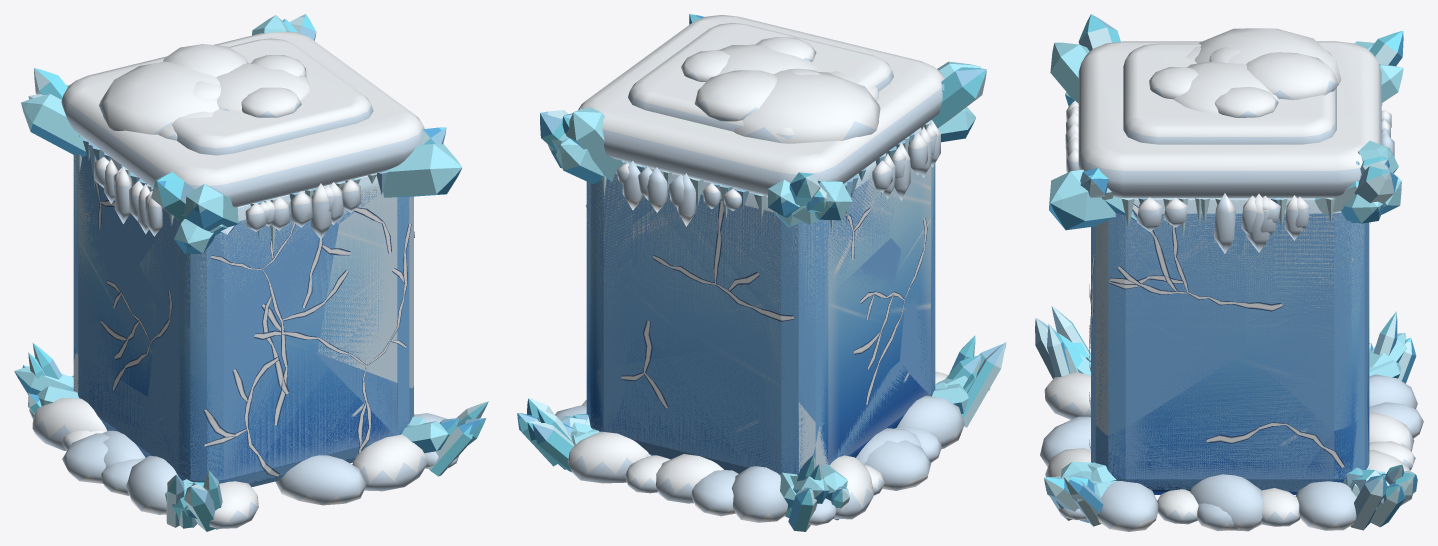
The model's file is IceBlockKit.fbx.
3 views of the same model, side by side, from view 1: azimuth 30°, elevation 25°; view 2: azimuth 150°, elevation 25°; view 3: azimuth 270°, elevation 25° (orthographic). The views are drawn at different scales.
Visible parts, largest first — view 1: IceShell, IceV1Snow, IcePiece01, IcePiece08, IceDrifts, IceV3Snow, IceV2Snow, IcePiece09, IcePiece04, IceMythicGlass, IcePiece02, IcePiece03 (+8 smaller); view 2: IceShell, IceV1Snow, IcePiece11, IcePiece05, IceV2Snow, IceV3Snow, IcePiece06, IceDrifts, IceMythicGlass, IcePiece02, IceV1Crystals, IceCrystalClusters (+6 smaller); view 3: IceShell, IceV1Snow, IcePiece09, IcePiece11, IcePiece10, IceV3Snow, IceDrifts, IceV2Snow, IceMythicGlass, IceCrystalClusters, IceV1Crystals, IceV3Crystals (+6 smaller).
Boxes of the visible parts, x1=… form: IceShell: x1=73, y1=155, x2=413, y2=483; IceV1Snow: x1=29, y1=31, x2=459, y2=495; IcePiece01: x1=140, y1=204, x2=338, y2=353; IcePiece08: x1=148, y1=311, x2=313, y2=482; IceDrifts: x1=32, y1=375, x2=446, y2=528; IceV3Snow: x1=73, y1=38, x2=398, y2=227; IceV2Snow: x1=62, y1=44, x2=414, y2=483; IcePiece09: x1=317, y1=192, x2=413, y2=388; IcePiece04: x1=217, y1=353, x2=413, y2=486; IceMythicGlass: x1=14, y1=15, x2=462, y2=518; IcePiece02: x1=73, y1=229, x2=156, y2=387; IcePiece03: x1=73, y1=351, x2=174, y2=468; IceShell: x1=586, y1=127, x2=934, y2=475; IceV1Snow: x1=578, y1=15, x2=944, y2=525; IcePiece11: x1=586, y1=161, x2=765, y2=369; IcePiece05: x1=586, y1=340, x2=819, y2=475; IceV2Snow: x1=622, y1=70, x2=940, y2=495; IceV3Snow: x1=606, y1=23, x2=938, y2=493; IcePiece06: x1=650, y1=166, x2=896, y2=312; IceDrifts: x1=555, y1=371, x2=964, y2=522; IceMythicGlass: x1=548, y1=61, x2=980, y2=507; IcePiece02: x1=754, y1=238, x2=901, y2=426; IceV1Crystals: x1=532, y1=136, x2=1005, y2=531; IceCrystalClusters: x1=540, y1=14, x2=986, y2=426; IceShell: x1=1091, y1=199, x2=1369, y2=494; IceV1Snow: x1=1059, y1=41, x2=1423, y2=526; IcePiece09: x1=1091, y1=213, x2=1246, y2=435; IcePiece11: x1=1245, y1=211, x2=1369, y2=430; IcePiece10: x1=1105, y1=353, x2=1332, y2=490; IceV3Snow: x1=1065, y1=43, x2=1415, y2=530; IceDrifts: x1=1040, y1=372, x2=1417, y2=531; IceV2Snow: x1=1066, y1=28, x2=1389, y2=524; IceMythicGlass: x1=1049, y1=41, x2=1406, y2=498; IceCrystalClusters: x1=1078, y1=14, x2=1403, y2=496; IceV1Crystals: x1=1044, y1=198, x2=1417, y2=522; IceV3Crystals: x1=1070, y1=198, x2=1405, y2=530.
Bounding box in the file's own units: 162 × 176 × 156.
